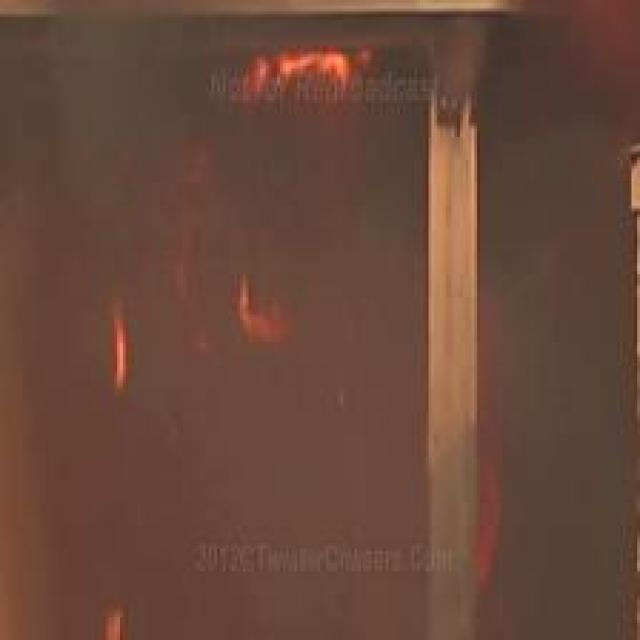Fire: (241, 50, 370, 110)
